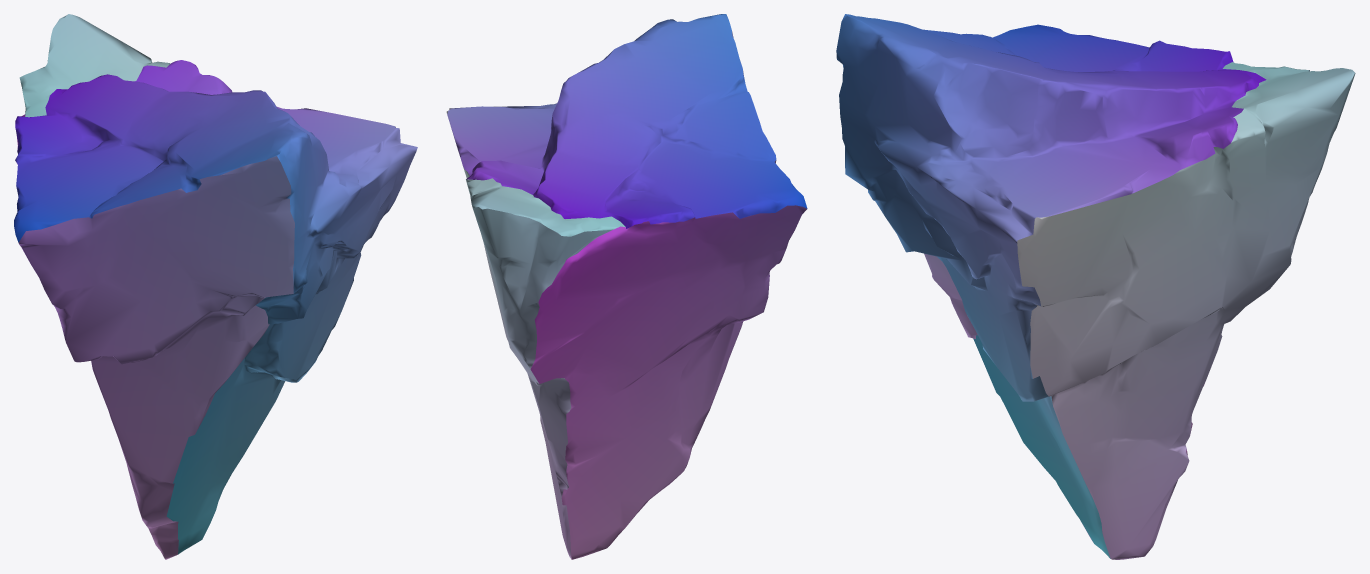
The picture shows the model from 3 angles, left to right: view 1: azimuth 30°, elevation 25°; view 2: azimuth 150°, elevation 25°; view 3: azimuth 270°, elevation 25°; orthographic projection. The views are drawn at different scales.
Parts seen in each view (by area): view 1: SM_BM_Lily_02_LOD0; view 2: SM_BM_Lily_02_LOD0; view 3: SM_BM_Lily_02_LOD0.
Boxes of the visible parts, left/top/right/bottom form: SM_BM_Lily_02_LOD0: left=14, top=14, right=417, bottom=559; SM_BM_Lily_02_LOD0: left=446, top=14, right=807, bottom=559; SM_BM_Lily_02_LOD0: left=836, top=14, right=1355, bottom=559.
Bounding box in the file's own units: 5.15 × 6.23 × 5.51.
